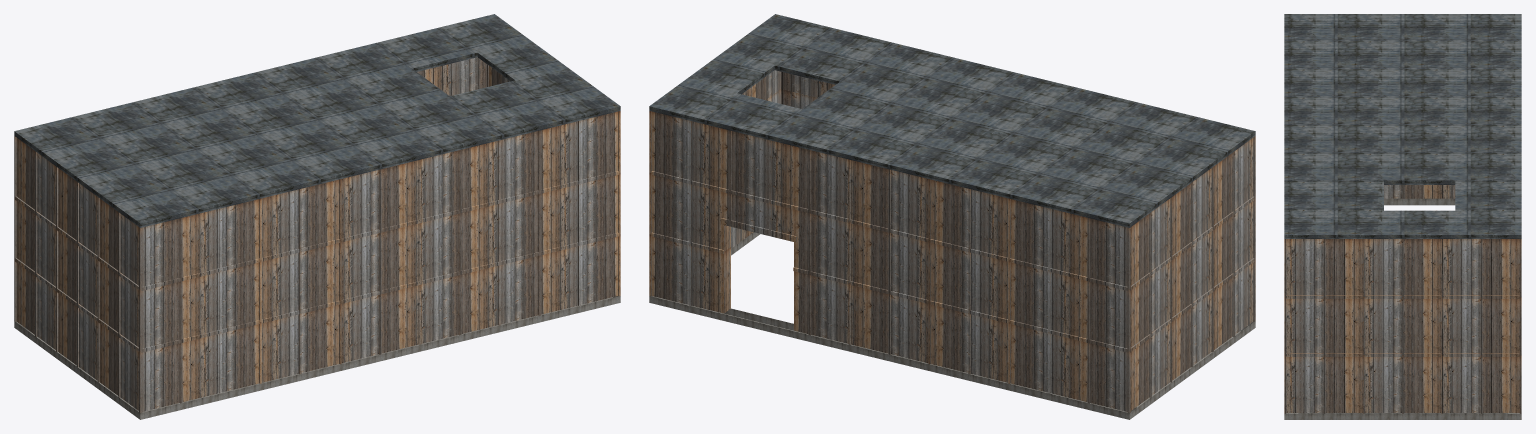
Rendered from int-shell-ropewalk-a.glb.
The picture shows the model from 3 angles, left to right: view 1: azimuth 30°, elevation 25°; view 2: azimuth 150°, elevation 25°; view 3: azimuth 270°, elevation 25°; orthographic projection. The views are drawn at different scales.
Parts seen in each view (by area): view 1: int-shell-ropewalk-a; view 2: int-shell-ropewalk-a; view 3: int-shell-ropewalk-a.
Boxes of the visible parts, x1=… form: int-shell-ropewalk-a: x1=14, y1=14, x2=620, y2=419; int-shell-ropewalk-a: x1=649, y1=14, x2=1255, y2=419; int-shell-ropewalk-a: x1=1284, y1=14, x2=1521, y2=419.
Size of the model in its own units: 22 by 8.6 by 10.
Materials: 3 (3 with a texture image).
